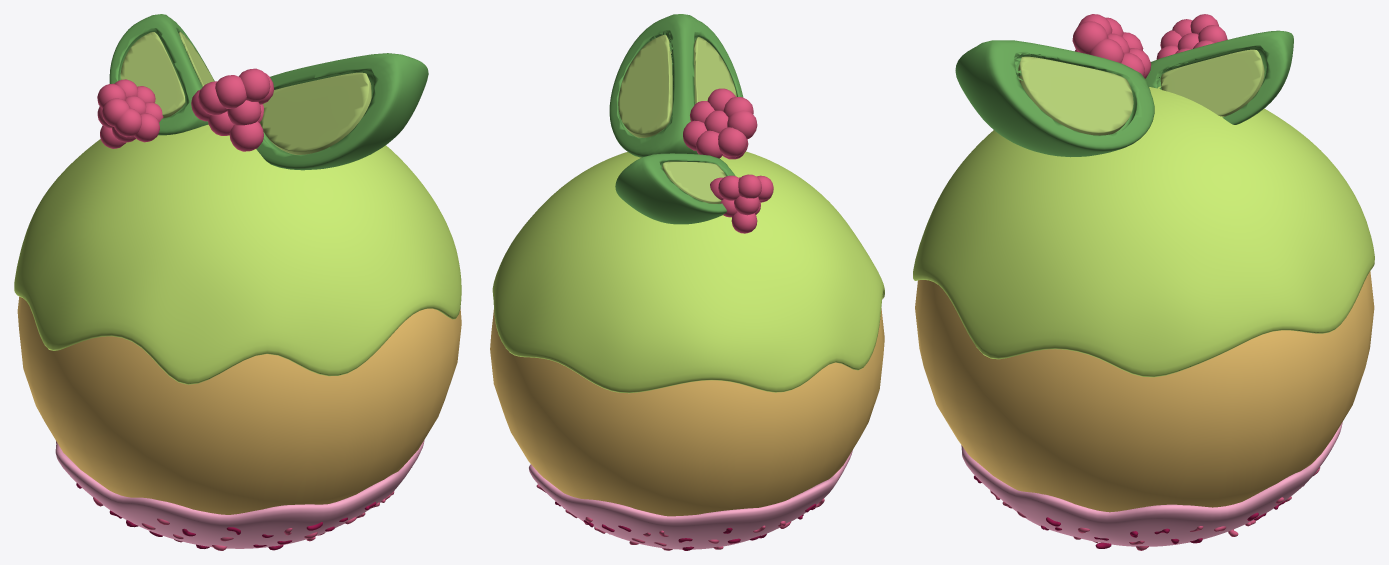
The model's file is tutatain-planet.glb.
The picture shows the model from 3 angles, left to right: view 1: azimuth 30°, elevation 25°; view 2: azimuth 150°, elevation 25°; view 3: azimuth 270°, elevation 25°; orthographic projection. The views are drawn at different scales.
Visible parts, largest first — view 1: Sphere.001, top, lime1, bottom, lime2, rasberry1, rasberry2, scattered berries; view 2: Sphere.001, top, lime1, bottom, lime2, rasberry1, rasberry2, scattered berries; view 3: Sphere.001, top, lime1, bottom, lime2, rasberry1, rasberry2, scattered berries.
Boxes of the visible parts, left/top/right/bottom form: Sphere.001: left=14, top=124, right=461, bottom=384; top: left=17, top=296, right=461, bottom=514; lime1: left=256, top=53, right=428, bottom=170; bottom: left=55, top=440, right=424, bottom=548; lime2: left=109, top=14, right=214, bottom=135; rasberry1: left=191, top=68, right=274, bottom=151; rasberry2: left=97, top=79, right=163, bottom=148; scattered berries: left=76, top=483, right=394, bottom=550; Sphere.001: left=492, top=151, right=884, bottom=393; top: left=490, top=308, right=884, bottom=516; lime1: left=609, top=14, right=743, bottom=157; bottom: left=529, top=450, right=852, bottom=549; lime2: left=615, top=153, right=735, bottom=224; rasberry1: left=683, top=88, right=757, bottom=159; rasberry2: left=710, top=174, right=773, bottom=233; scattered berries: left=536, top=484, right=824, bottom=550; Sphere.001: left=913, top=86, right=1374, bottom=377; top: left=915, top=271, right=1374, bottom=512; lime1: left=955, top=40, right=1154, bottom=157; bottom: left=961, top=422, right=1342, bottom=546; lime2: left=1145, top=30, right=1293, bottom=124; rasberry1: left=1072, top=14, right=1151, bottom=78; rasberry2: left=1156, top=14, right=1227, bottom=59; scattered berries: left=974, top=467, right=1320, bottom=550.
Bounding box in the file's own units: 2.02 × 2.54 × 2.01.
